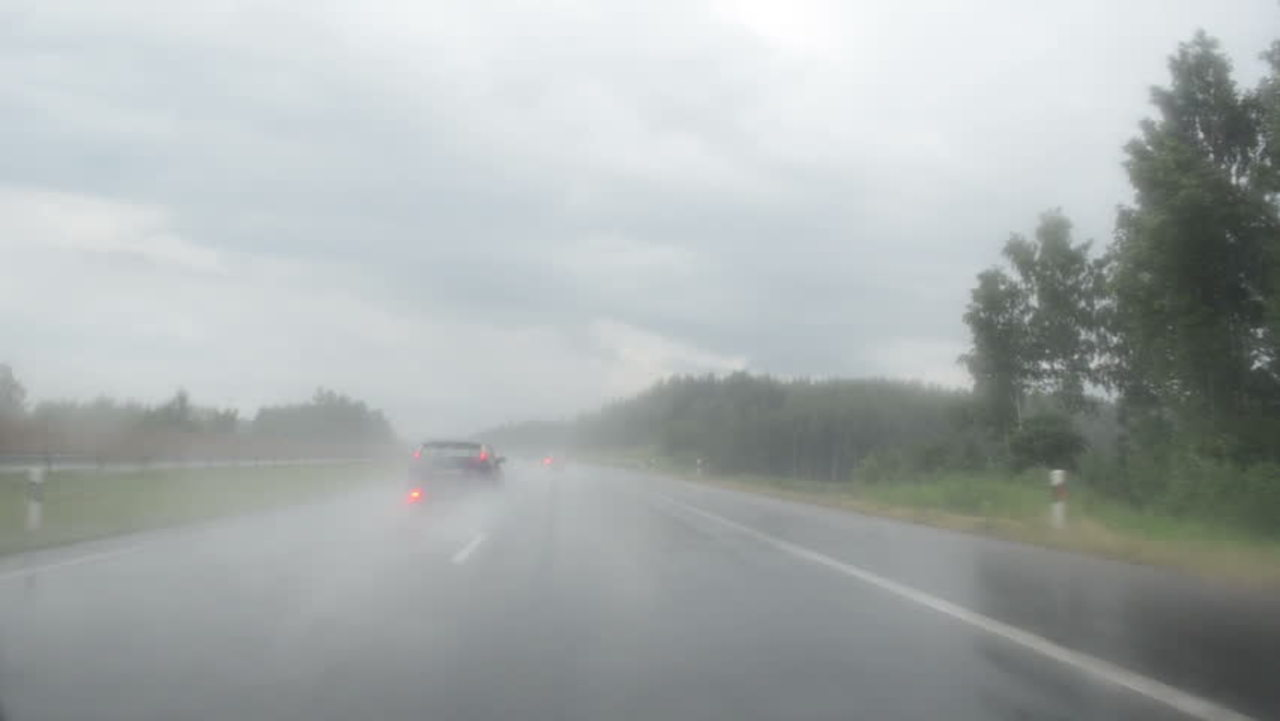car: (408, 442, 505, 512), (540, 447, 570, 471)
